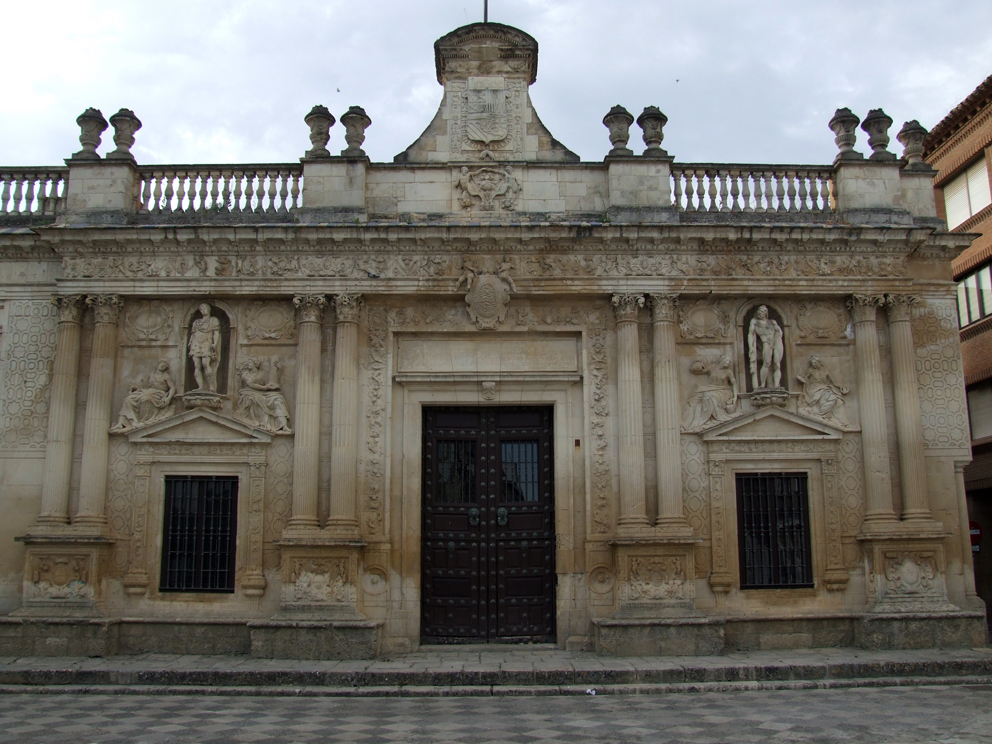fronton: (123, 404, 276, 448), (697, 403, 848, 445)
vano-adintelado: (375, 365, 588, 656), (123, 444, 267, 596), (708, 440, 846, 597)
